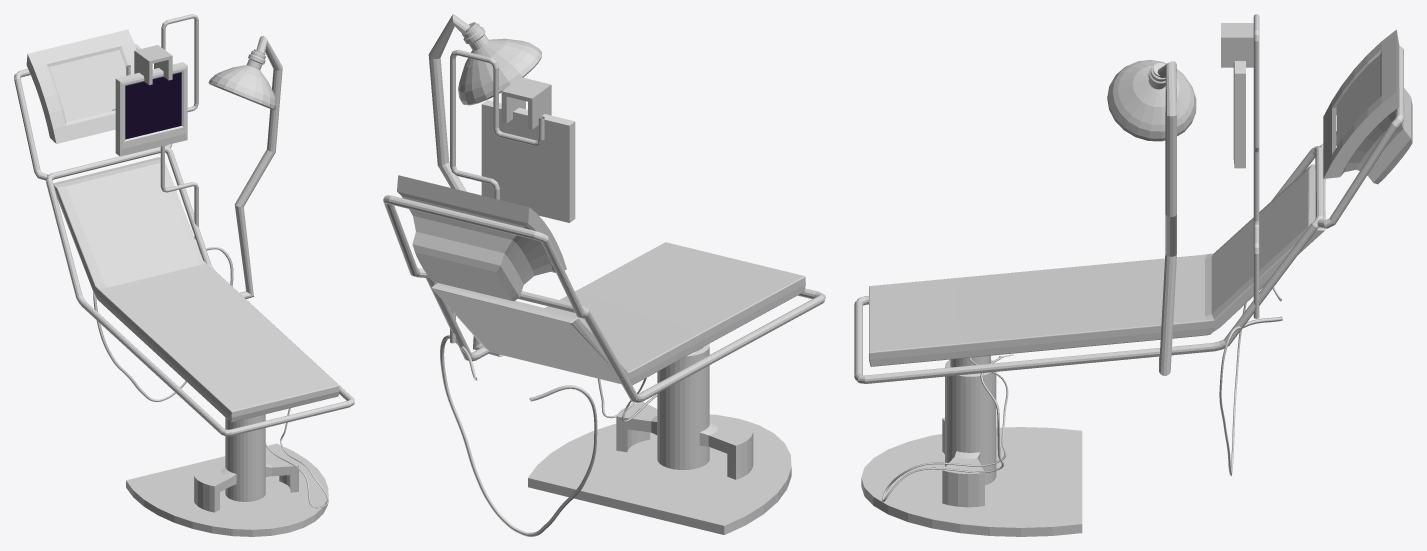
The model's file is BrokenMedicalEquipment.fbx.
3 views of the same model, side by side, from view 1: azimuth 30°, elevation 25°; view 2: azimuth 150°, elevation 25°; view 3: azimuth 270°, elevation 25° (orthographic). The views are drawn at different scales.
Visible parts, largest first — view 1: Cube.060, Circle.003, Plane.004, Cube.061, Cylinder.001, Cube.074, screen.002, Plane.005, Cone.013, Plane.027, Cube.073, wire.001 (+1 smaller); view 2: Cube.060, Circle.003, Cube.074, Cylinder.001, Cube.061, Plane.004, Cone.013, Plane.005, Plane.027, wire.001, Cube.073; view 3: Cube.060, Circle.003, Plane.004, Cylinder.001, Cube.074, Cone.013, Plane.005, Plane.027, screen.002, Cube.073, Cube.061, wire.003 (+1 smaller).
Boxes of the visible parts, bbox=[...] form: Cube.060: bbox=[53, 157, 339, 422]; Circle.003: bbox=[126, 443, 328, 536]; Plane.004: bbox=[14, 44, 354, 436]; Cube.061: bbox=[115, 62, 187, 156]; Cylinder.001: bbox=[194, 414, 298, 512]; Cube.074: bbox=[26, 29, 136, 143]; screen.002: bbox=[49, 50, 126, 120]; Plane.005: bbox=[234, 36, 282, 298]; Cone.013: bbox=[208, 49, 276, 110]; Plane.027: bbox=[126, 14, 198, 239]; Cube.073: bbox=[134, 45, 172, 85]; wire.001: bbox=[93, 247, 233, 402]; Cube.060: bbox=[431, 242, 805, 385]; Circle.003: bbox=[528, 414, 791, 534]; Cube.074: bbox=[397, 175, 566, 301]; Cylinder.001: bbox=[616, 344, 753, 479]; Cube.061: bbox=[481, 100, 575, 222]; Plane.004: bbox=[383, 195, 825, 402]; Cone.013: bbox=[458, 22, 541, 105]; Plane.005: bbox=[428, 14, 503, 357]; Plane.027: bbox=[450, 49, 544, 343]; wire.001: bbox=[440, 335, 597, 536]; Cube.073: bbox=[501, 77, 551, 129]; Cube.060: bbox=[869, 164, 1325, 366]; Circle.003: bbox=[861, 427, 1082, 536]; Plane.004: bbox=[854, 46, 1404, 383]; Cylinder.001: bbox=[942, 355, 996, 507]; Cube.074: bbox=[1323, 29, 1412, 184]; Cone.013: bbox=[1107, 60, 1196, 141]; Plane.005: bbox=[1157, 61, 1176, 375]; Plane.027: bbox=[1253, 14, 1259, 318]; screen.002: bbox=[1336, 55, 1380, 146]; Cube.073: bbox=[1221, 23, 1253, 67]; Cube.061: bbox=[1233, 61, 1245, 168]; wire.003: bbox=[881, 354, 1013, 502].
Bounding box in the file's own units: 124 × 233 × 239.
